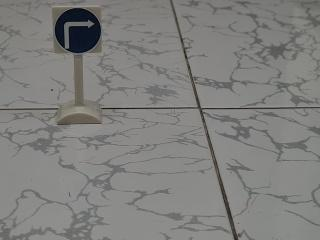right: (48, 0, 111, 60)
